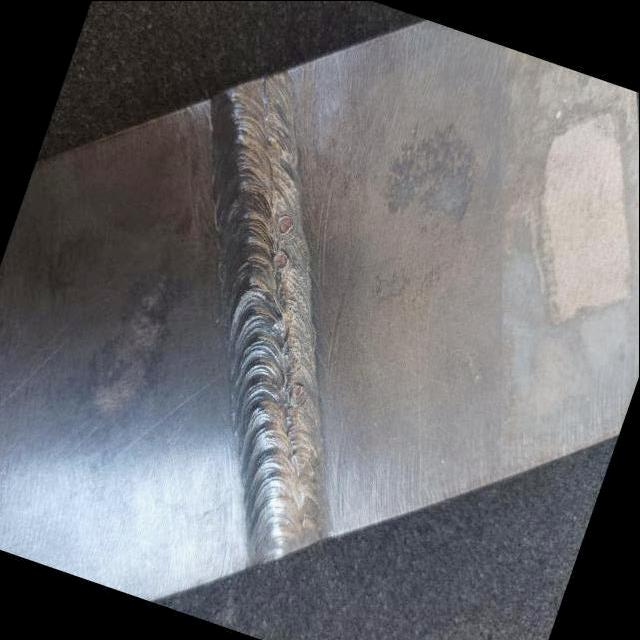defect: (275, 211, 297, 238), (272, 249, 293, 273), (290, 383, 309, 407), (285, 347, 302, 371), (285, 297, 299, 317)
